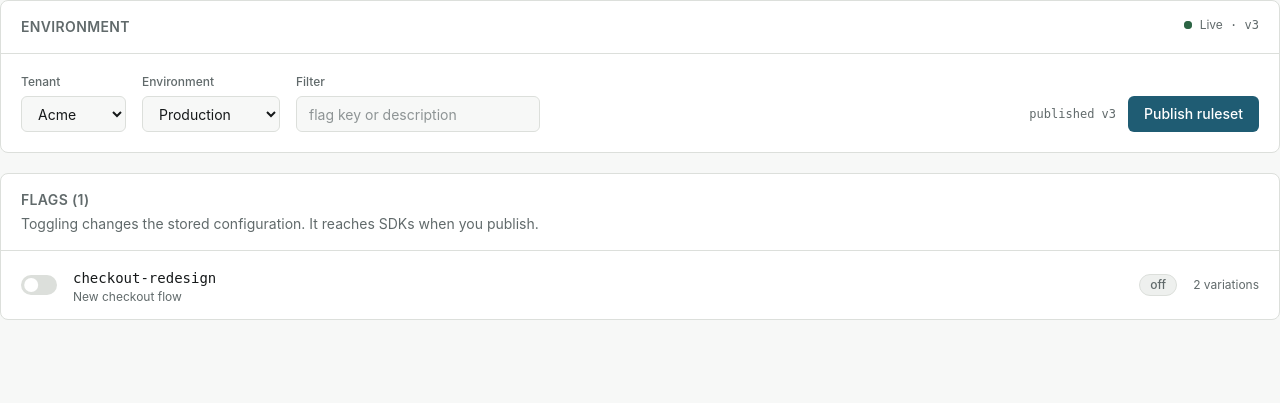
Test case: FlagList › reports the published version after a publish
The width and height of the screenshot is (1280, 403).
Expected: the link "checkout-redesign" is shown, left=73, top=270, right=216, bottom=286
Click the button "Publish ruleset" at x=1194, y=114, box left=1128, top=96, right=1259, bottom=132
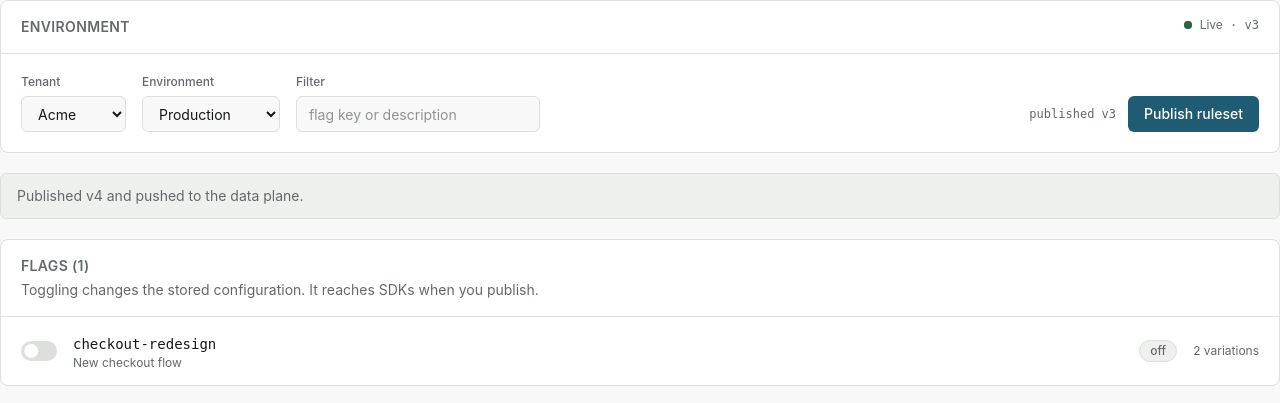
Result: the text "Published v4 and pushed to the data plane." is shown at left=0, top=173, right=1279, bottom=219
